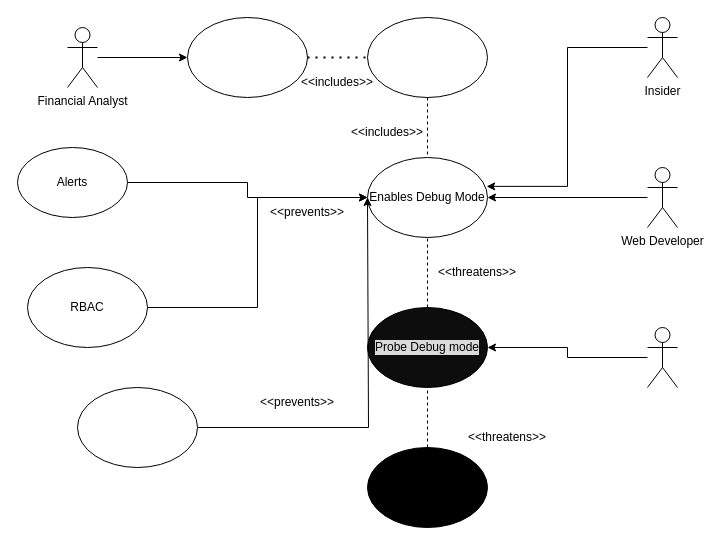
This 721x545 diagram has some shape labels left out. The shapes that lost their labels are listed below. From the top down, each one's centre as x and y in pixels, then its label:
At (247,57): "Runs Cells".
At (427,57): "Runs Marimo WebApp".
At (662,357): "Actor".
At (427,487): "System Logs, and Paths".
